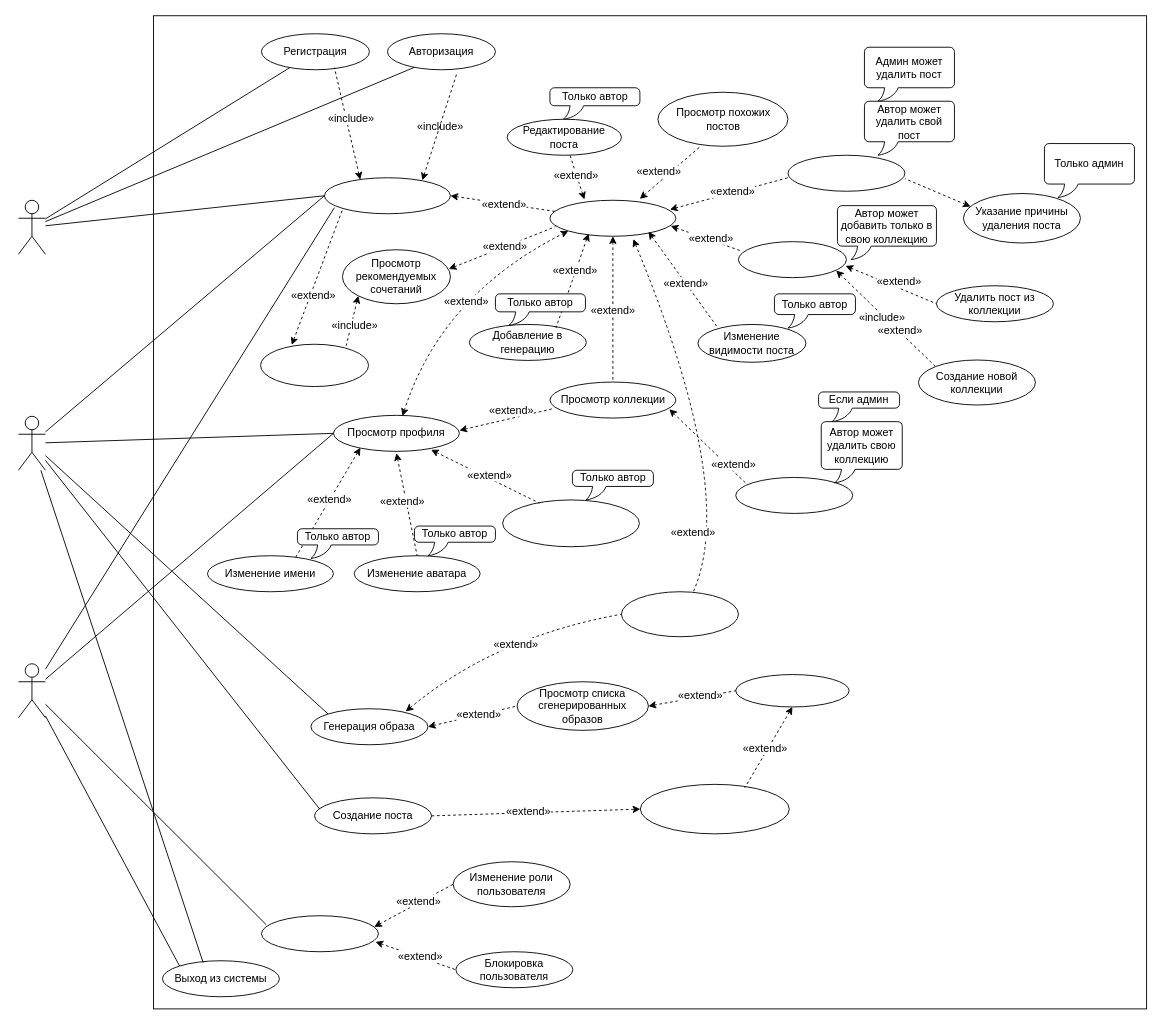
Some shapes in this 1163 by 1025 pixel diagram are drawn without their labels. The shapes that lost their labels are listed below. From the top down, each one's box as (x1, y1, x2, y2) in pixels, then its label:
(787, 154, 905, 191): Удаление поста
(324, 177, 450, 214): Просмотр всех постов
(18, 199, 45, 254): Гость
(549, 199, 676, 236): Просмотр поста
(738, 241, 846, 278): Добавление в коллекцию
(260, 343, 369, 387): Загрузка вещи
(18, 415, 45, 470): Автор
(735, 477, 853, 513): Удаление коллекции
(502, 499, 639, 547): Изменение обложки профиля
(621, 591, 738, 637): Удаление вещи из списка генерации
(18, 663, 45, 718): Админ
(735, 674, 849, 707): Просмотр образа
(639, 783, 789, 834): Выбор сгенерированного образа для поста
(261, 915, 378, 952): Управление пользователями
